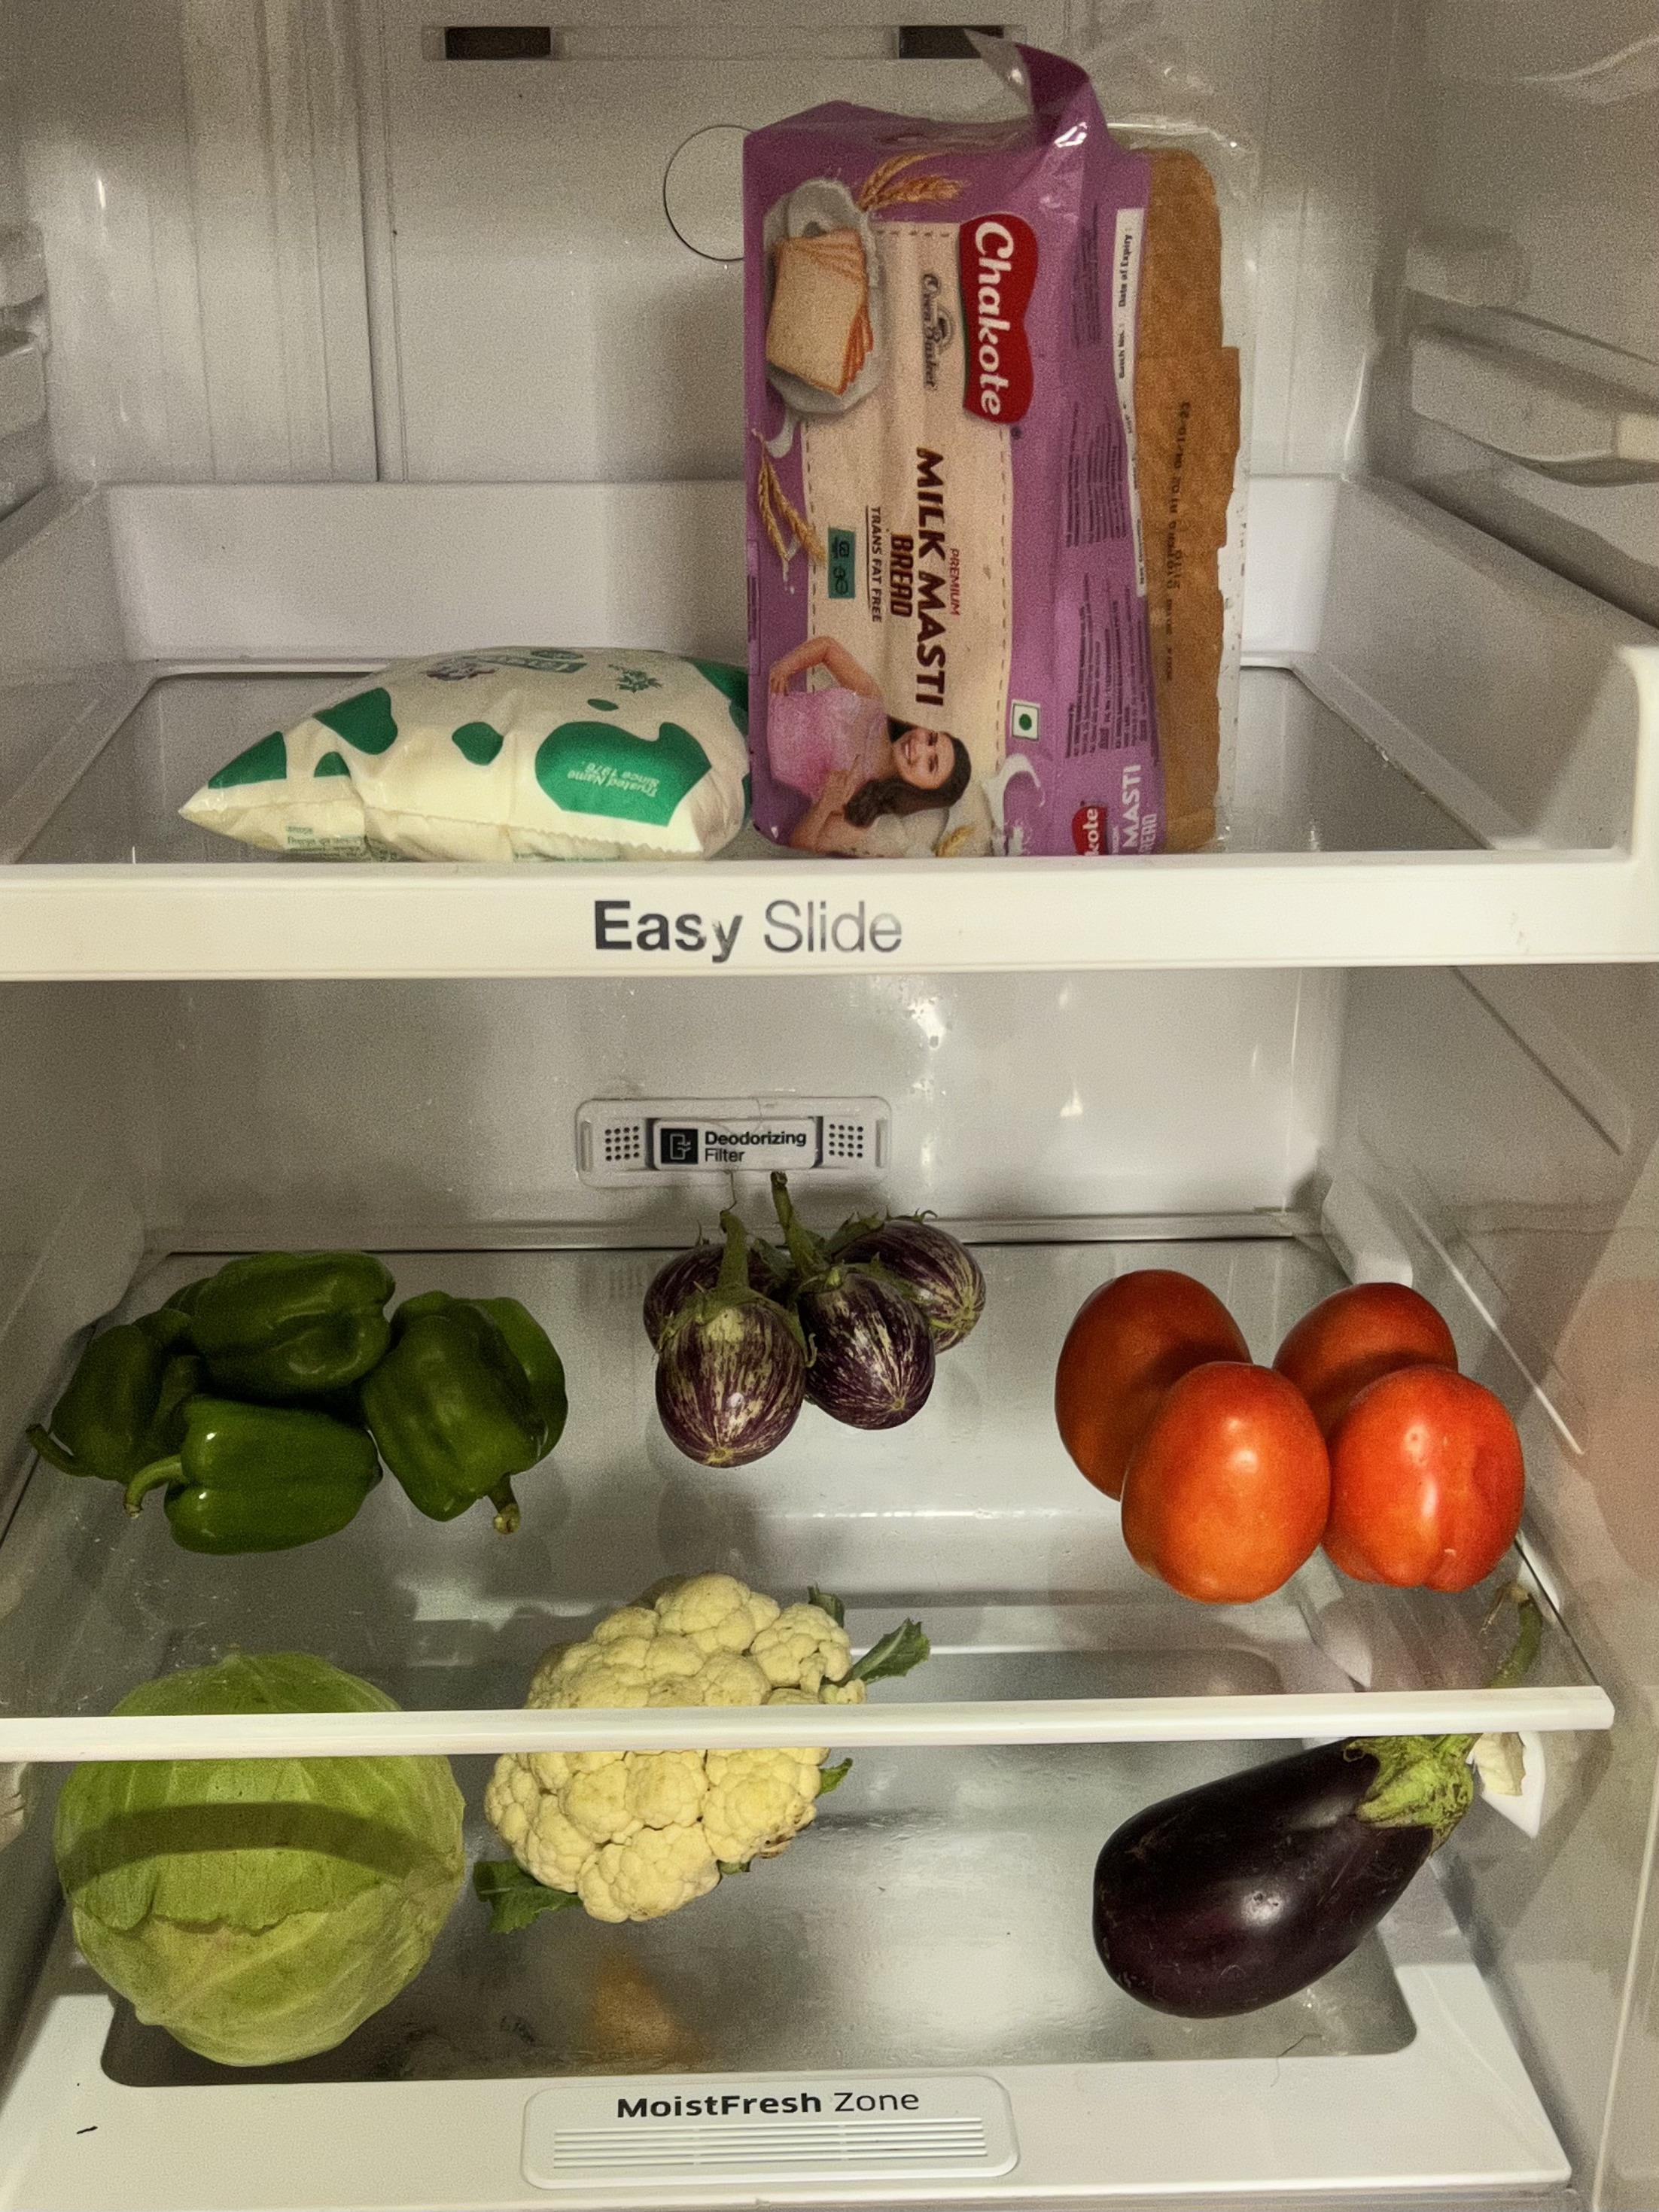bread: (723, 91, 1237, 843)
bringal: (1089, 1747, 1481, 2019), (638, 1205, 981, 1468)
cabbage: (58, 1763, 455, 2060)
capsicum: (40, 1238, 572, 1554)
cauliflower: (495, 1575, 864, 1919)
milk: (195, 637, 734, 866)
tomato: (1051, 1264, 1520, 1602)
